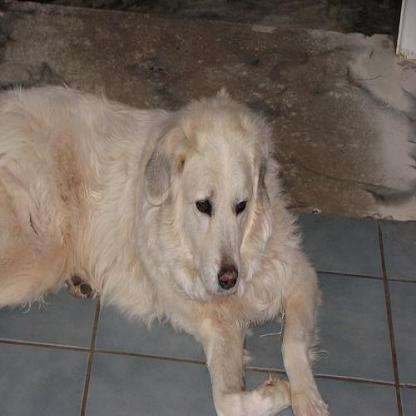Great_Pyrenees: (0, 77, 326, 414)
